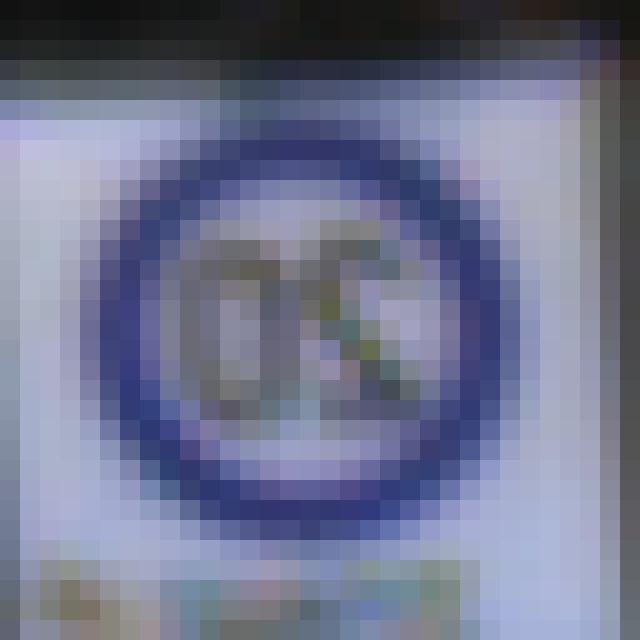SPEED LIMIT 20: (86, 152, 506, 518)
